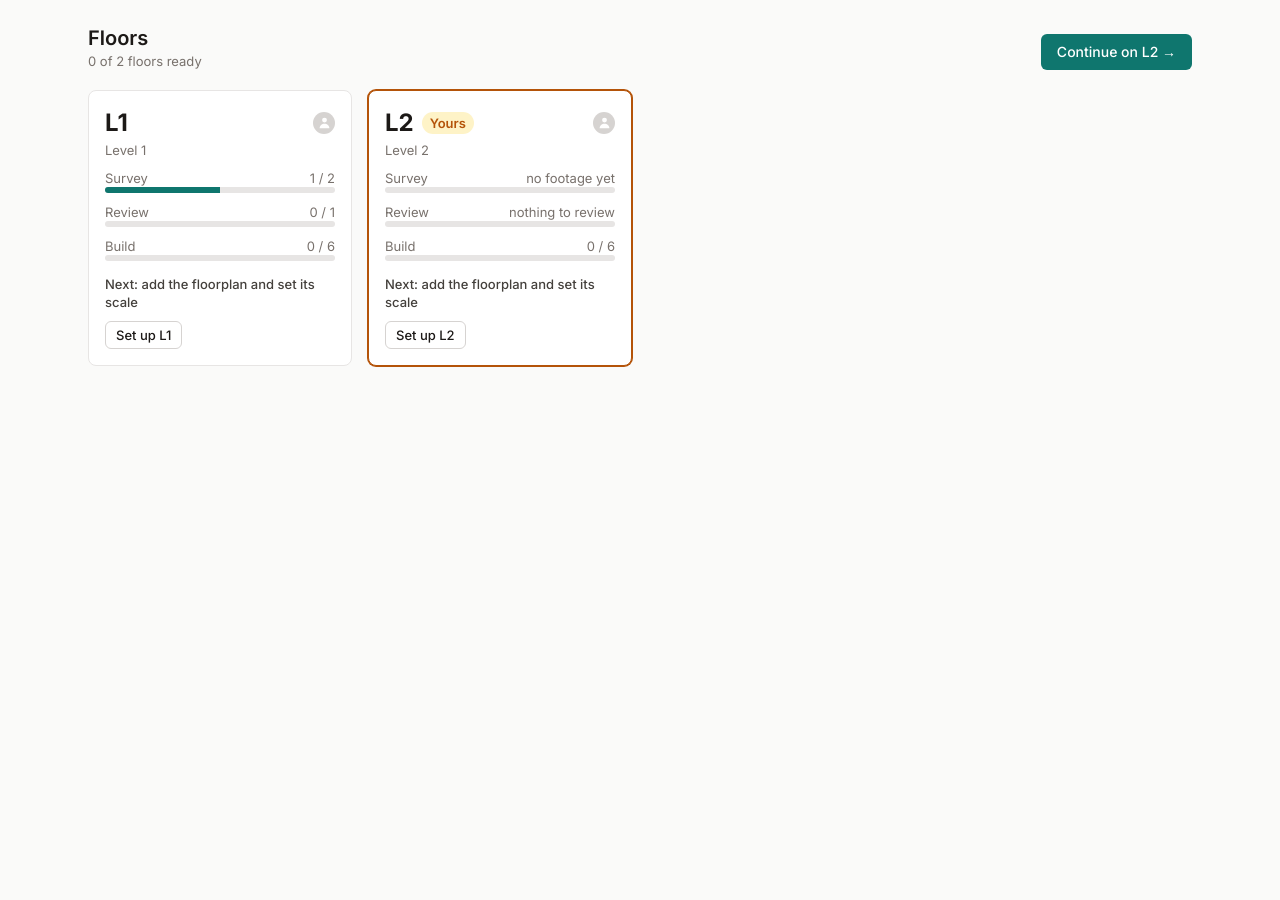
Scenario: FloorsHome › says the team could not load, instead of 'Loading the team…' forever
The width and height of the screenshot is (1280, 900).
Click the button named "Owners of L1": (324, 123) [313,112,335,134]
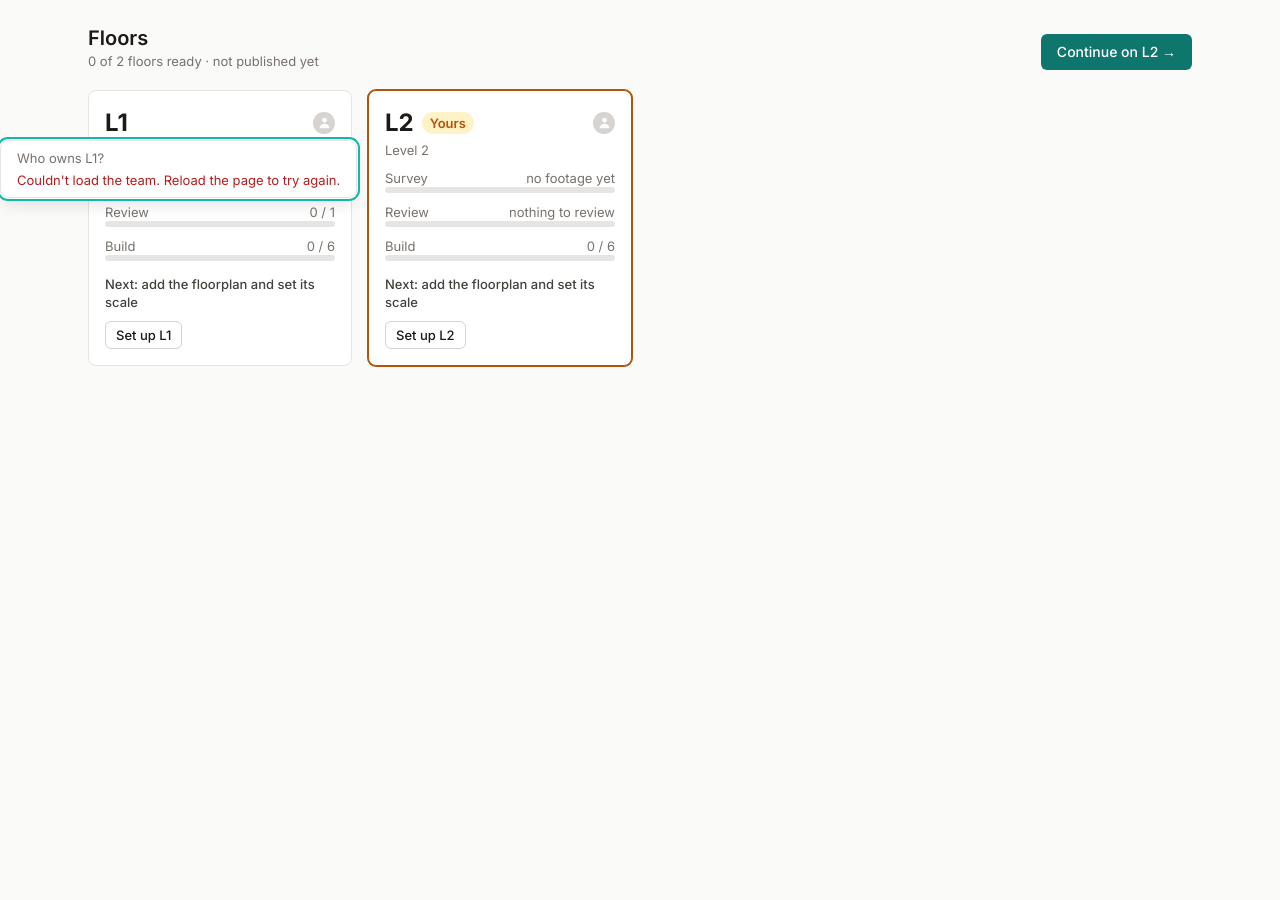
Expected: the text "Couldn't load the team. Reload the page to try again." is shown, [9,171,348,189]
